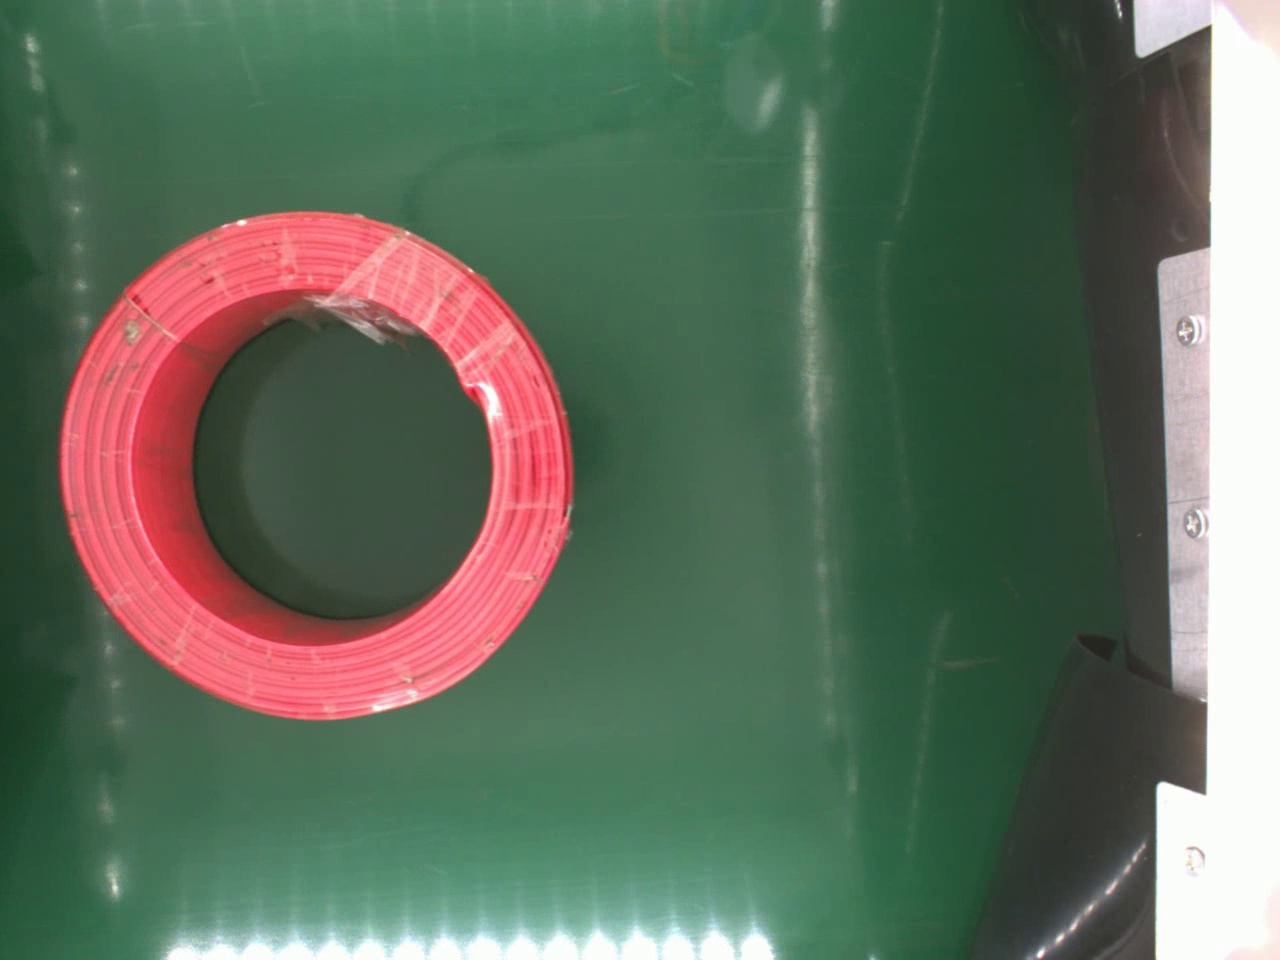red: (56, 205, 573, 718)
